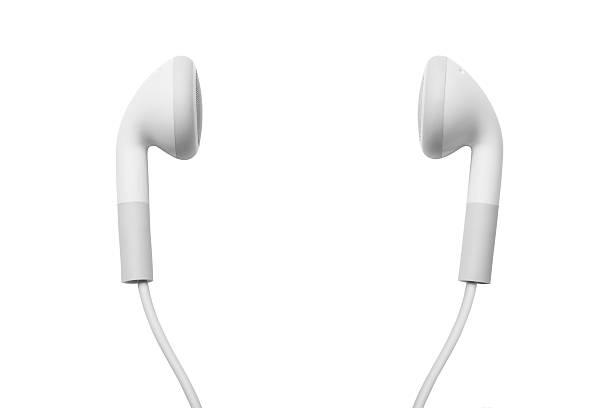headphone: (91, 43, 543, 310)
